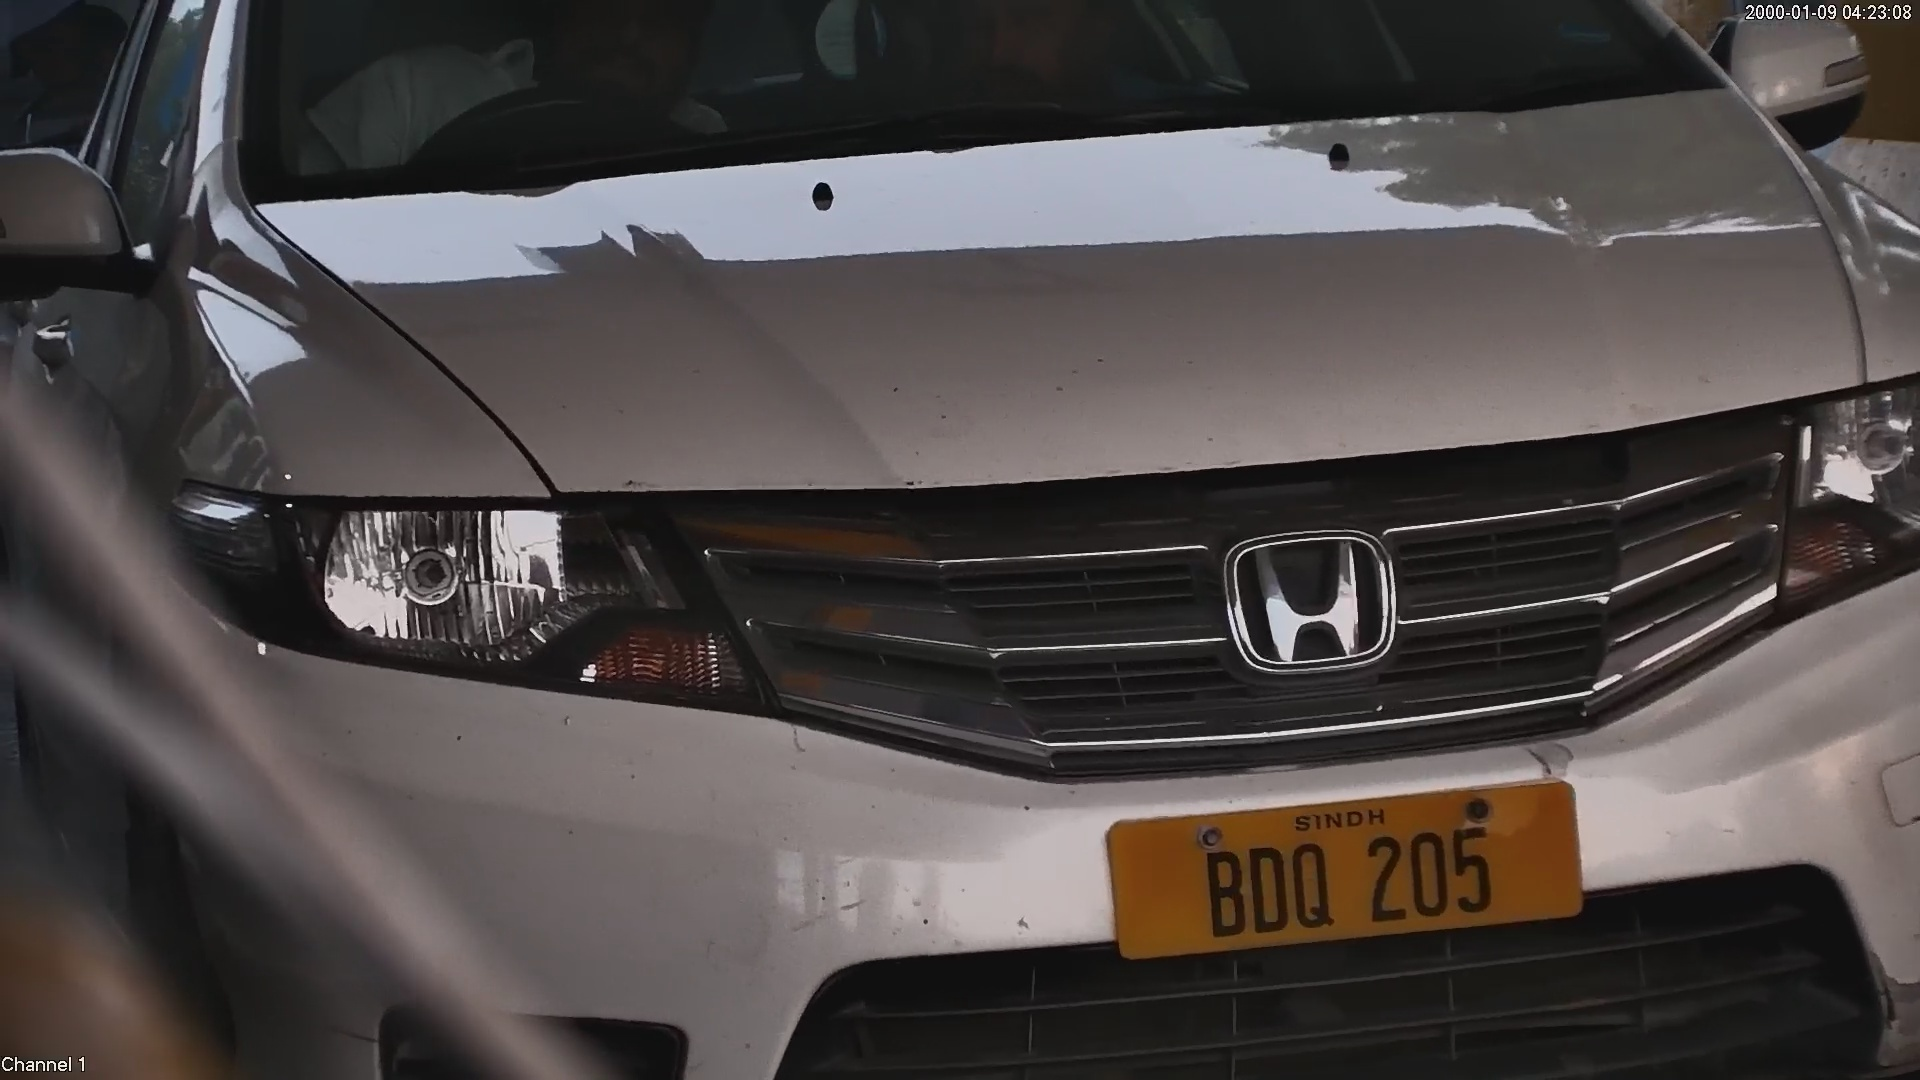Number_Plate: (1106, 783, 1582, 951)
Undefined: (247, 499, 658, 668), (1200, 516, 1395, 666)
